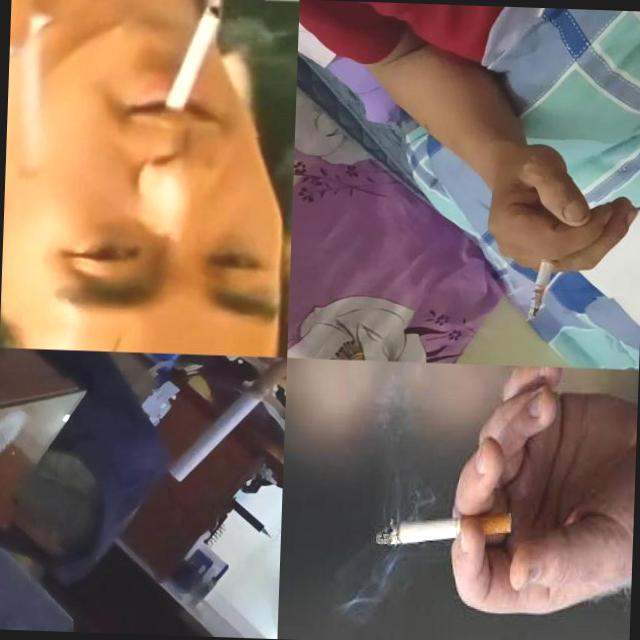smoke: (372, 366, 638, 629), (478, 134, 640, 323), (165, 354, 286, 488), (155, 3, 220, 123)
